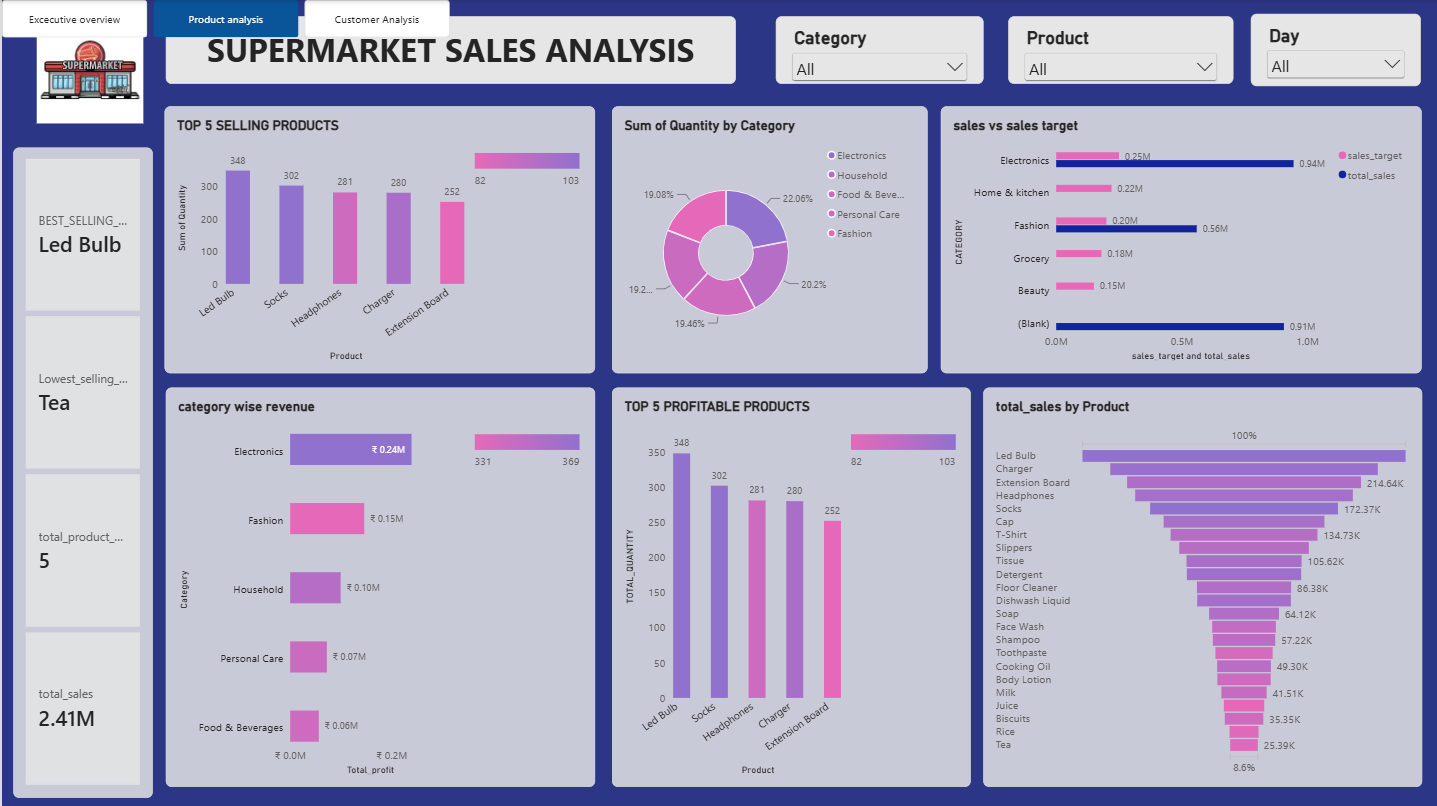

Layout of this report page (visuals, bound fields, positions):
{"tool":"powerbi","page":{"name":"Product analysis","canvas":[1920,1080],"ordinal":1},"visuals":[{"type":"image","box":[0,21.7,235.3,143],"z":0},{"type":"textbox","box":[219,21.7,761.9,90.5],"z":1000},{"type":"columnChart","title":"TOP 5 SELLING PRODUCTS","fields":{"Category":["Supermarket_Sales_Customer_Analysis_RAW (2).Product"],"Y":["Sum(Supermarket_Sales_Customer_Analysis_RAW (2).Quantity)"]},"box":[217.2,141.2,575.5,356.5],"z":2000},{"type":"clusteredBarChart","title":"category wise revenue ","fields":{"Category":["Supermarket_Sales_Customer_Analysis_RAW (2).Category"],"Y":["Supermarket_Sales_Customer_Analysis_RAW (2).Total_profit"]},"box":[219,517.6,573.7,533.8],"z":3000},{"type":"clusteredBarChart","title":"sales vs sales target ","fields":{"Category":["CATEGORY TARGETS.CATEGORY "],"Y":["CATEGORY TARGETS.sales_target","CATEGORY TARGETS.total_sales"]},"box":[1254.1,141.2,642.4,356.5],"z":4000},{"type":"cardVisual","fields":{"Data":["Supermarket_Sales_Customer_Analysis_RAW (2).BEST_SELLING_PRODUCT","Supermarket_Sales_Customer_Analysis_RAW (2).Lowest_selling_product","Supermarket_Sales_Customer_Analysis_RAW (2).total_product_category","CATEGORY TARGETS.total_sales"]},"box":[14.5,197.3,186.4,868.6],"z":5000},{"type":"slicer","fields":{"Values":["Supermarket_Sales_Customer_Analysis_RAW (2).Category"]},"box":[1032.8,21,277.7,90.4],"z":6000},{"type":"slicer","fields":{"Values":["Supermarket_Sales_Customer_Analysis_RAW (2).Product"]},"box":[1344.1,21,300.8,90.4],"z":7000},{"type":"slicer","fields":{"Values":["Supermarket_Sales_Customer_Analysis_RAW (2).Order_Date.Variation.Date Hierarchy.Day"]},"box":[1668,18.9,227.2,96.8],"z":8000},{"type":"clusteredColumnChart","title":"TOP 5 PROFITABLE PRODUCTS ","fields":{"Category":["Supermarket_Sales_Customer_Analysis_RAW (2).Product"],"Y":["Supermarket_Sales_Customer_Analysis_RAW (2).TOTAL_QUANTITY"]},"box":[814.3,517.6,479.6,533.8],"z":9000},{"type":"donutChart","fields":{"Category":["Supermarket_Sales_Customer_Analysis_RAW (2).Category"],"Y":["Sum(Supermarket_Sales_Customer_Analysis_RAW (2).Quantity)"]},"box":[814.3,141.2,421.7,356.5],"z":10000},{"type":"funnel","fields":{"Category":["Supermarket_Sales_Customer_Analysis_RAW (2).Product"],"Y":["CATEGORY TARGETS.total_sales"]},"box":[1310.2,517.6,586.3,533.8],"z":11000},{"type":"pageNavigator","box":[0,0,600,50],"z":12000}]}

Visuals, with their boxes on the page's 1920x1080 design canvas (x1, y1, x2, y2). These are canvas units, not pixel positions in the 1437x806 screenshot, which may show the page scaled, cropped or inside an application window:
image: bbox=(0, 22, 235, 165)
textbox: bbox=(219, 22, 981, 112)
"TOP 5 SELLING PRODUCTS" columnChart: bbox=(217, 141, 793, 498)
"category wise revenue " clusteredBarChart: bbox=(219, 518, 793, 1051)
"sales vs sales target " clusteredBarChart: bbox=(1254, 141, 1896, 498)
cardVisual - Supermarket_Sales_Customer_Analysis_RAW (2).BEST_SELLING_PRODUCT x Supermarket_Sales_Customer_Analysis_RAW (2).Lowest_selling_product: bbox=(14, 197, 201, 1066)
slicer - Supermarket_Sales_Customer_Analysis_RAW (2).Category: bbox=(1033, 21, 1310, 111)
slicer - Supermarket_Sales_Customer_Analysis_RAW (2).Product: bbox=(1344, 21, 1645, 111)
slicer - Supermarket_Sales_Customer_Analysis_RAW (2).Order_Date.Variation.Date Hierarchy.Day: bbox=(1668, 19, 1895, 116)
"TOP 5 PROFITABLE PRODUCTS " clusteredColumnChart: bbox=(814, 518, 1294, 1051)
donutChart - Supermarket_Sales_Customer_Analysis_RAW (2).Category x Sum(Supermarket_Sales_Customer_Analysis_RAW (2).Quantity): bbox=(814, 141, 1236, 498)
funnel - Supermarket_Sales_Customer_Analysis_RAW (2).Product x CATEGORY TARGETS.total_sales: bbox=(1310, 518, 1896, 1051)
pageNavigator: bbox=(0, 0, 600, 50)
